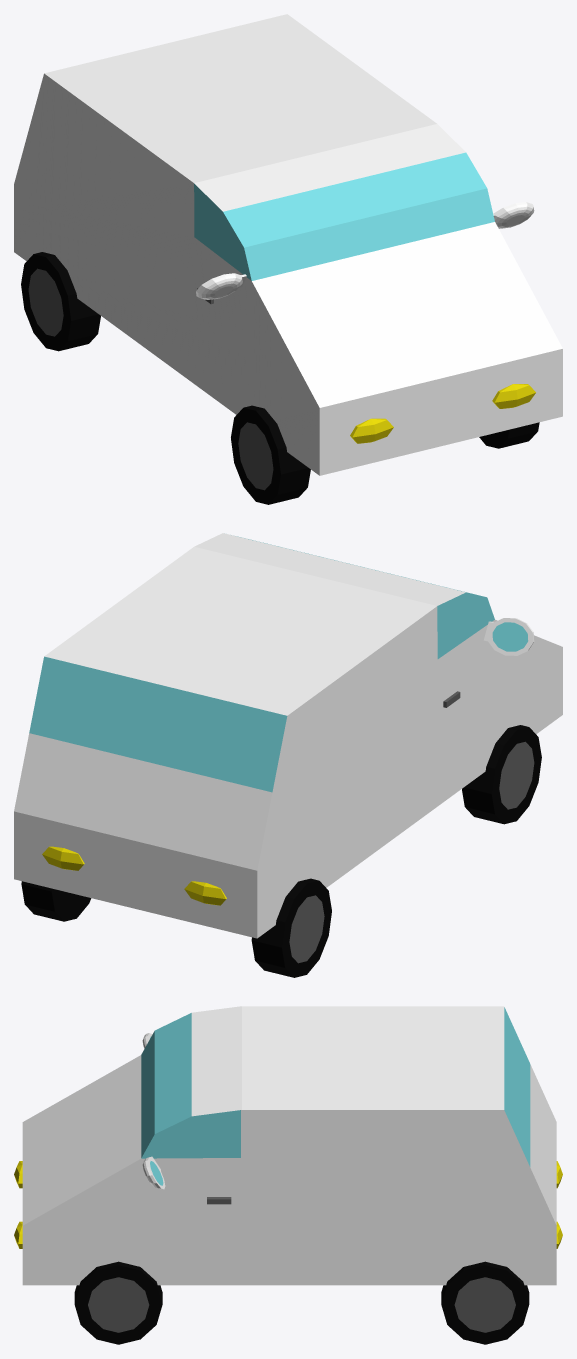
Rendered from car3.fbx.
3 views of the same model, one above another, from view 1: azimuth 30°, elevation 25°; view 2: azimuth 150°, elevation 25°; view 3: azimuth 270°, elevation 25° (orthographic). The views are drawn at different scales.
Visible parts, largest first — view 1: Car, RBwheel, RFwheel, Mirror2, LFwheel, FLheadlight, FRheadligt, Mirror; view 2: Car, RBwheel, RFwheel, LBwheel, Mirror2, LBheadlight.001, LBheadlight; view 3: Car, LFwheel, LBwheel, Mirror.
Boxes of the visible parts, box(x1,y1,x2,y2) form: Car: box(14, 14, 562, 475); RBwheel: box(21, 252, 100, 351); RFwheel: box(231, 405, 310, 504); Mirror2: box(196, 273, 246, 299); LFwheel: box(479, 422, 539, 448); FLheadlight: box(350, 418, 393, 443); FRheadligt: box(492, 384, 535, 408); Mirror: box(493, 202, 534, 228); Car: box(14, 533, 562, 938); RBwheel: box(251, 878, 331, 977); RFwheel: box(462, 725, 541, 824); LBwheel: box(21, 881, 91, 921); Mirror2: box(484, 618, 534, 655); LBheadlight.001: box(184, 881, 226, 905); LBheadlight: box(42, 846, 84, 870); Car: box(22, 1006, 556, 1285); LFwheel: box(74, 1261, 162, 1344); LBwheel: box(441, 1261, 529, 1344); Mirror: box(142, 1156, 165, 1189).
Size of the model in its own units: 440 by 330 by 709.
